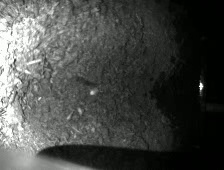corn: (90, 88, 99, 96), (66, 111, 73, 121), (77, 107, 84, 116)
